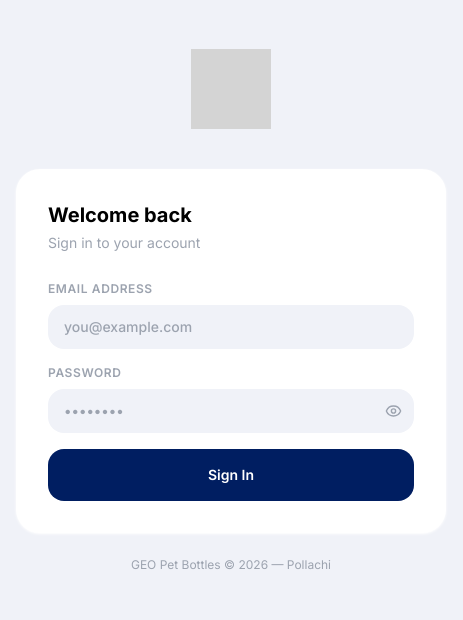
Test: Login page › shows error message when login throws
Type "bad@geo.com" into the field with placeholder "you@example.com" at (231, 327), box x1=48 y1=305 x2=414 y2=349
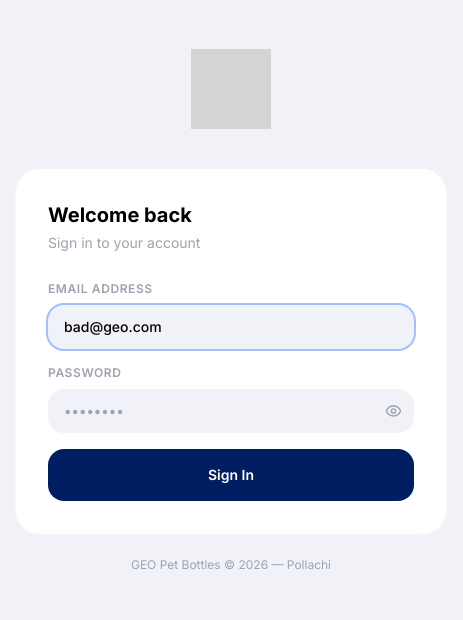
Type "wrong" into the password field with placeholder "••••••••" at (231, 411), box x1=48 y1=389 x2=414 y2=433
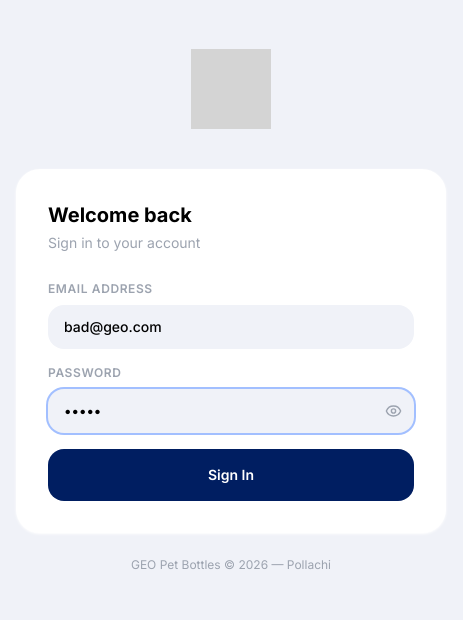
Click the button "Sign In" at (231, 475), box x1=48 y1=449 x2=414 y2=501
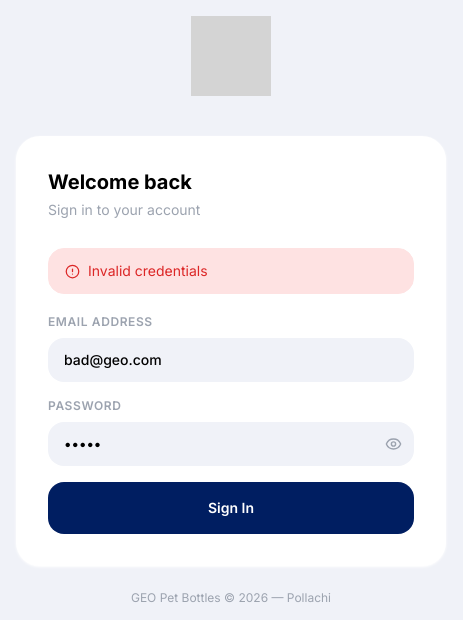
expect the text "Invalid credentials" is shown: met, box x1=48 y1=248 x2=414 y2=294
